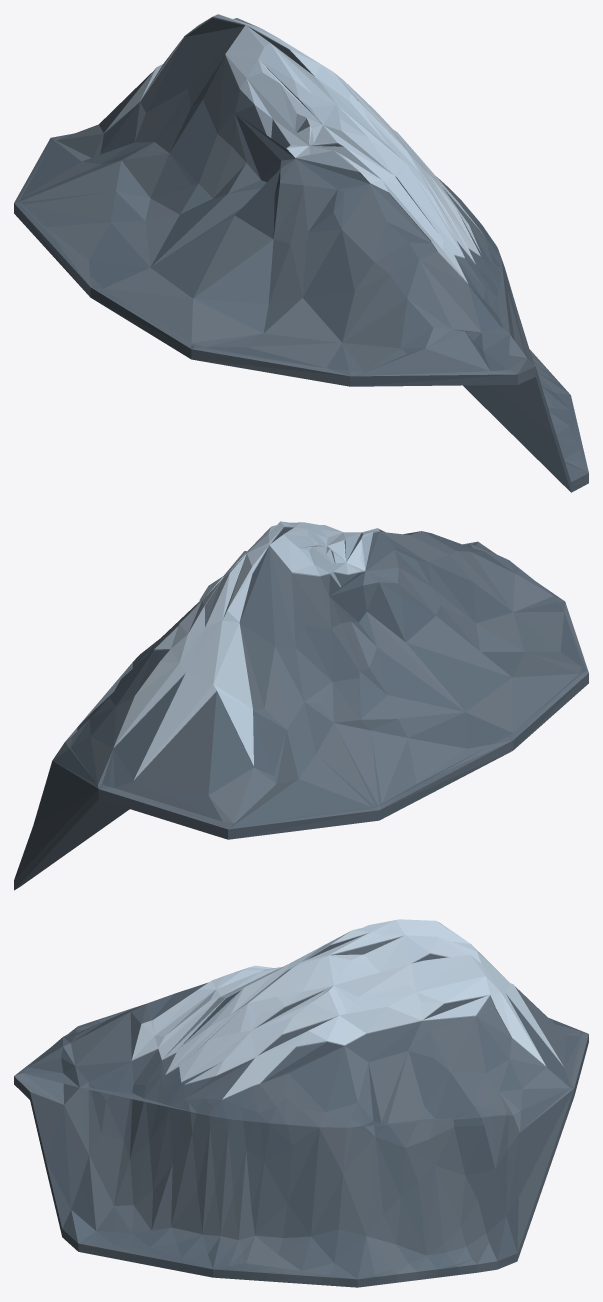
File: massif_cirque_wall_cirque54v2.glb
3 views of the same model, one above another, from view 1: azimuth 30°, elevation 25°; view 2: azimuth 150°, elevation 25°; view 3: azimuth 270°, elevation 25° (orthographic). The views are drawn at different scales.
Parts seen in each view (by area): view 1: remodeled_cirque_body, snow_gully_b, snow_gully_a, upper_snow_basin, north_snow_patch; view 2: remodeled_cirque_body, north_snow_patch, snow_gully_a, snow_gully_b, upper_snow_basin; view 3: remodeled_cirque_body, snow_gully_a, snow_gully_b, north_snow_patch, upper_snow_basin.
Part boxes in pixels (x1=…): remodeled_cirque_body: x1=14, y1=18, x2=588, y2=492; snow_gully_b: x1=225, y1=43, x2=468, y2=283; snow_gully_a: x1=184, y1=15, x2=485, y2=264; upper_snow_basin: x1=212, y1=14, x2=289, y2=57; north_snow_patch: x1=104, y1=36, x2=184, y2=133; remodeled_cirque_body: x1=14, y1=527, x2=588, y2=890; north_snow_patch: x1=113, y1=622, x2=253, y2=779; snow_gully_a: x1=171, y1=521, x2=301, y2=684; snow_gully_b: x1=280, y1=521, x2=385, y2=587; upper_snow_basin: x1=154, y1=527, x2=295, y2=650; remodeled_cirque_body: x1=14, y1=934, x2=588, y2=1287; snow_gully_a: x1=165, y1=919, x2=510, y2=1099; snow_gully_b: x1=131, y1=931, x2=350, y2=1060; north_snow_patch: x1=490, y1=983, x2=564, y2=1067; upper_snow_basin: x1=354, y1=920, x2=490, y2=1020.
Bounding box in the file's own units: 454 × 346 × 651.
